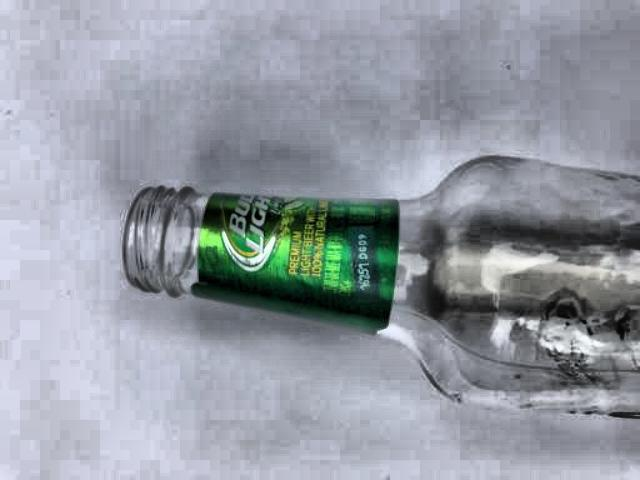Bottles: (99, 136, 640, 447)
